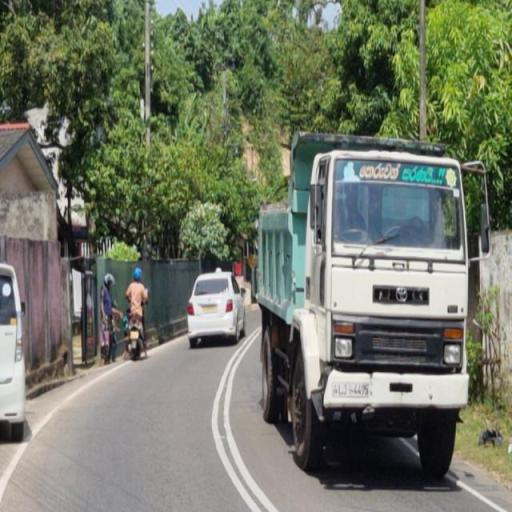double_white_line: (211, 322, 275, 510)
